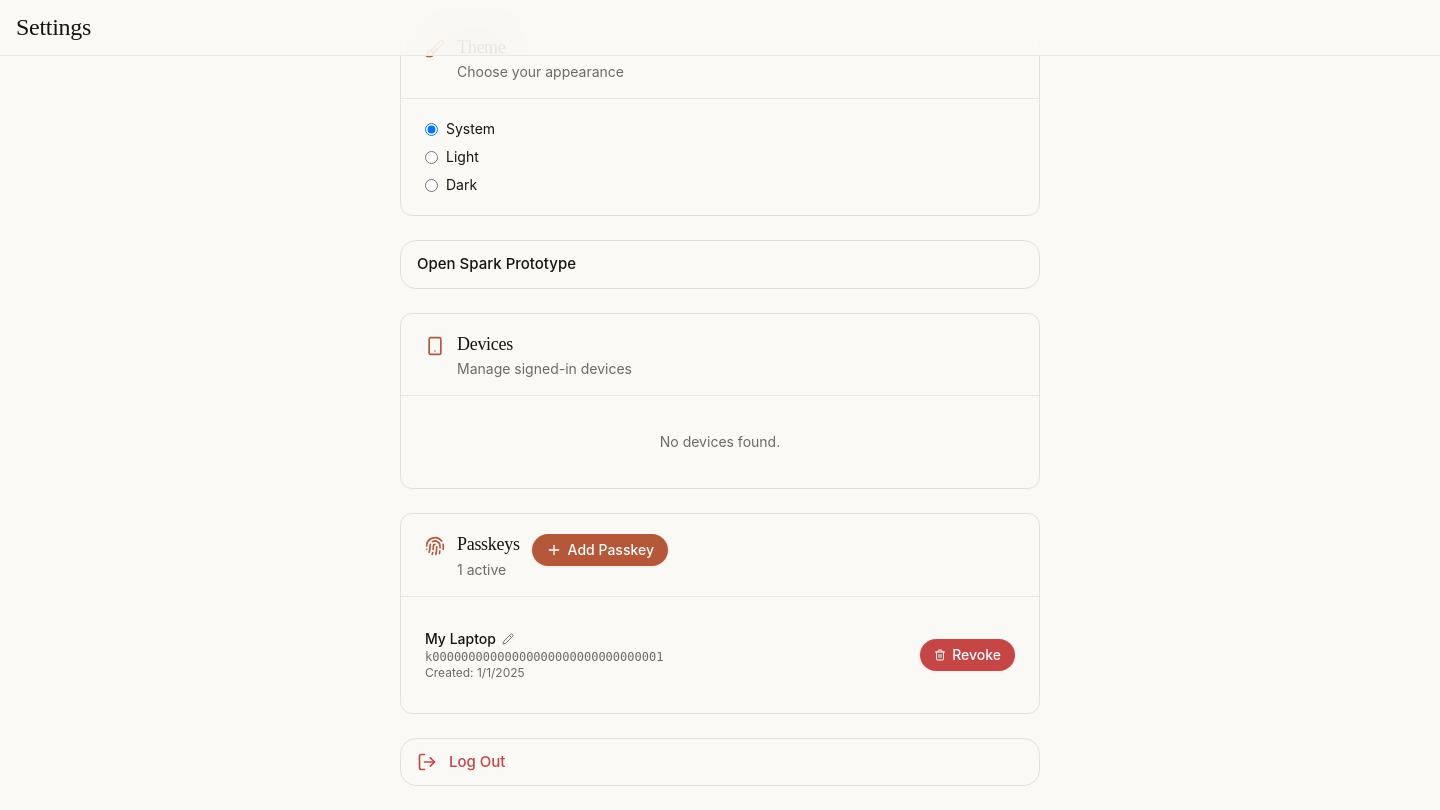
Scenario: Settings – passkey rename › opens inline edit form when edit button is clicked
(page scrolled)
Expected: the text "My Laptop" is shown, left=425, top=629, right=496, bottom=649
Click the button with test id "passkey-edit-btn".
click(508, 639)  # box left=500, top=631, right=516, bottom=647
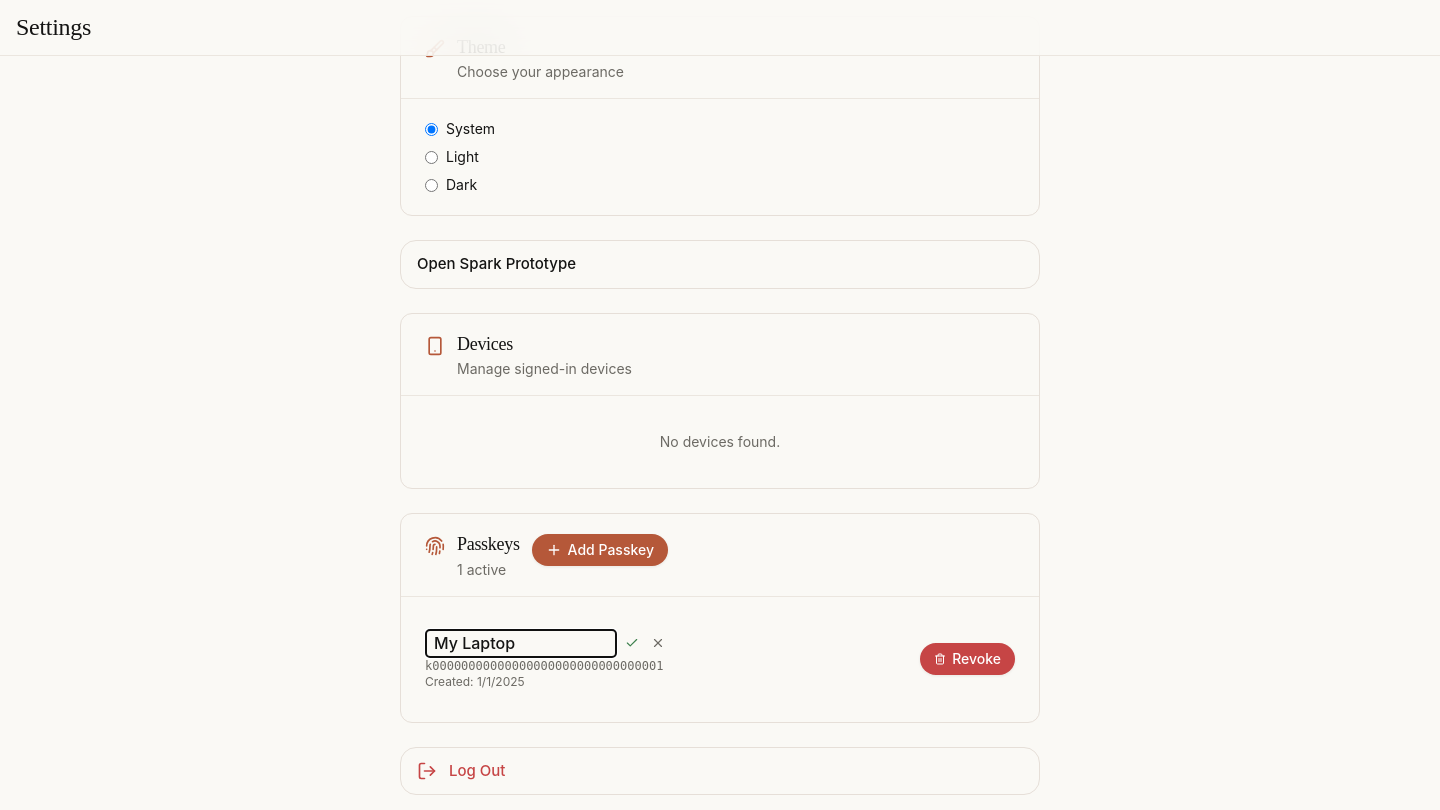
Result: the field with test id "passkey-name-input" is shown at left=425, top=629, right=617, bottom=658
Result: the button with test id "passkey-name-save" is shown at left=621, top=632, right=643, bottom=654
Result: the button with test id "passkey-name-cancel" is shown at left=647, top=632, right=669, bottom=654
